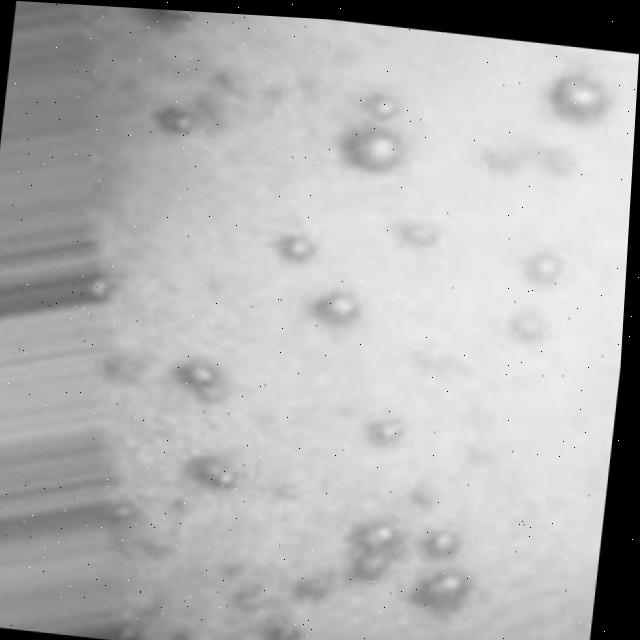Shingles: (340, 515, 487, 619), (345, 94, 405, 178), (549, 68, 607, 117), (315, 288, 362, 328), (192, 445, 232, 491), (154, 100, 195, 142), (181, 354, 219, 397), (275, 230, 314, 263), (522, 252, 562, 284), (397, 226, 441, 252), (369, 419, 408, 446), (89, 267, 115, 305), (145, 9, 201, 24)
